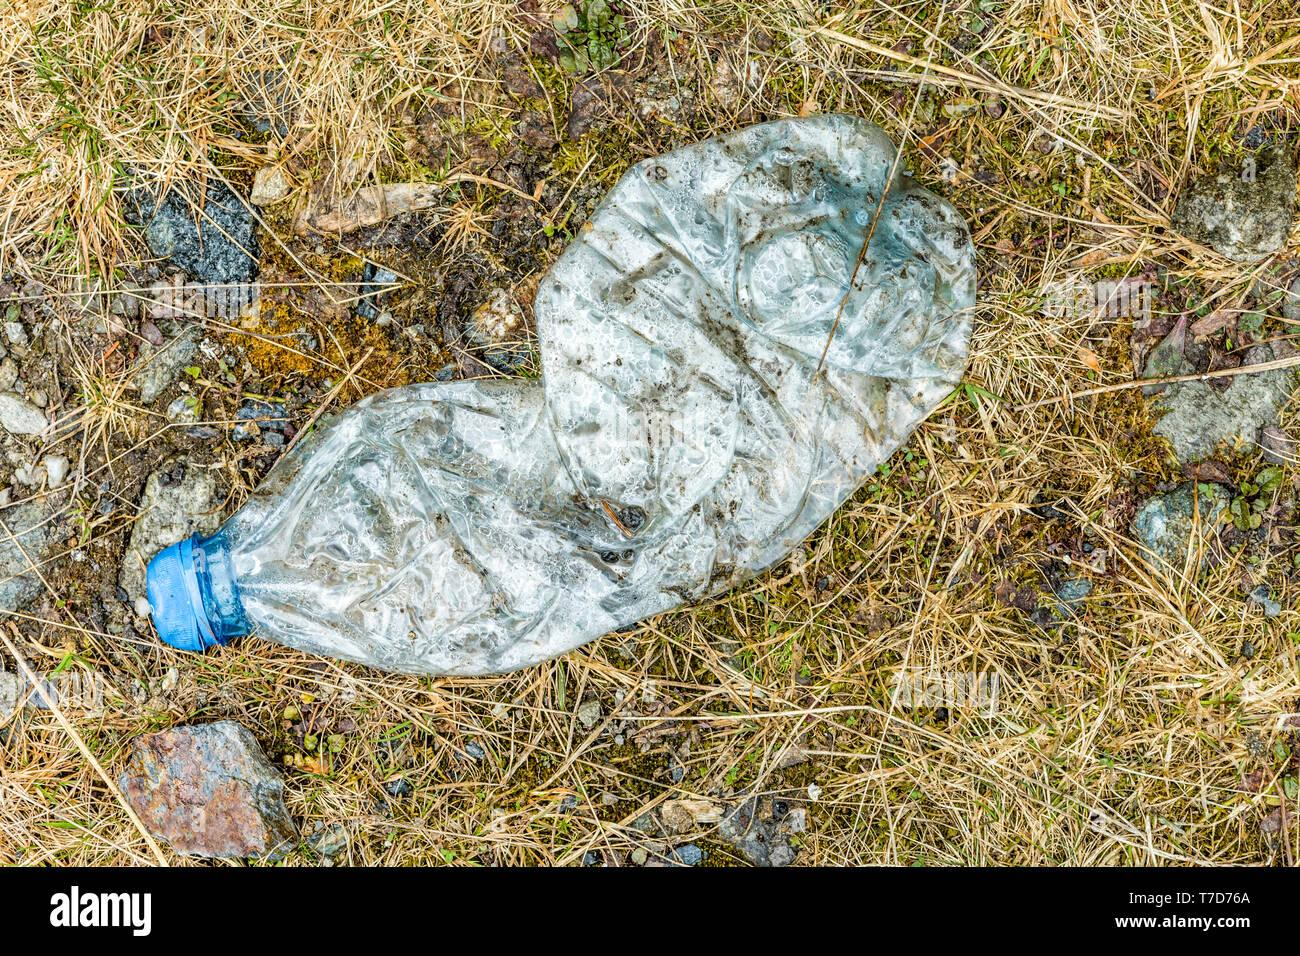bottle: (116, 88, 988, 728)
